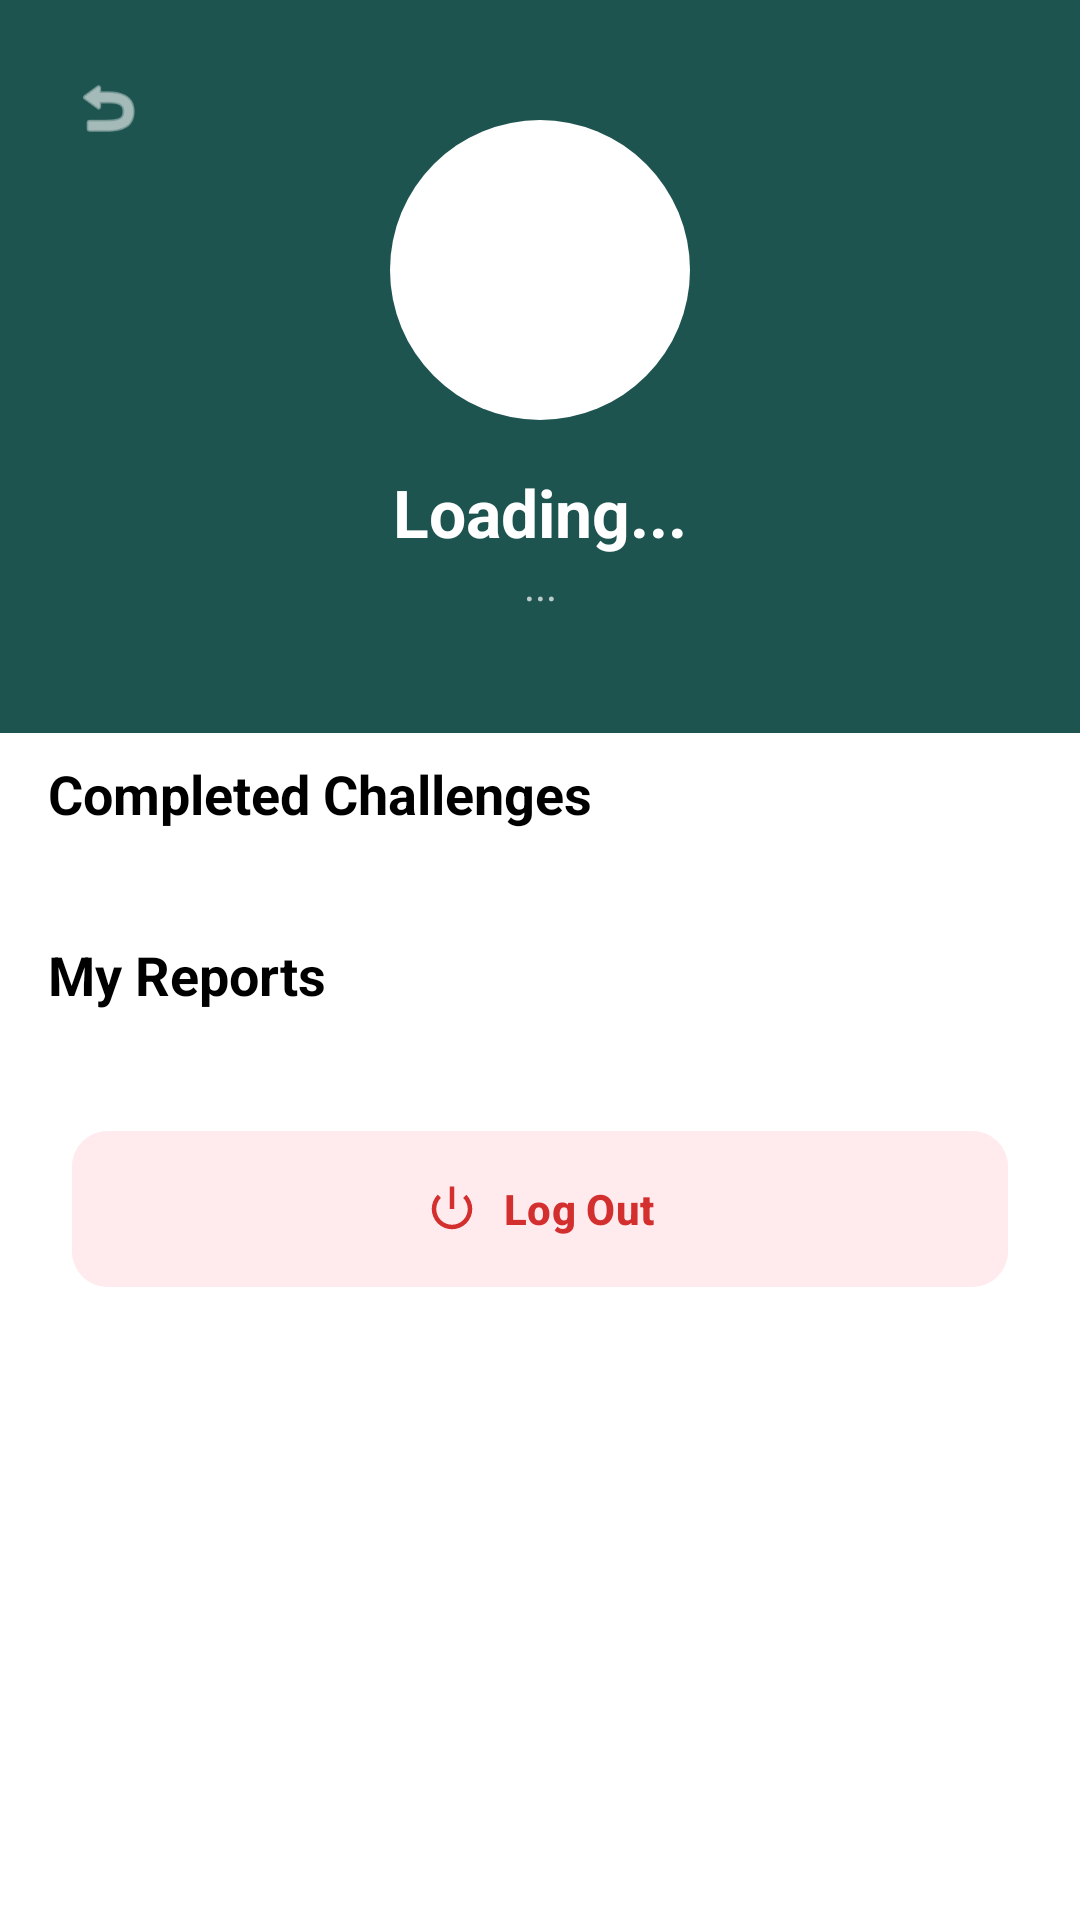

Where to tap for icons on this 1080px×1920px app screen, as point (x, y):
revert: point (109, 108)
